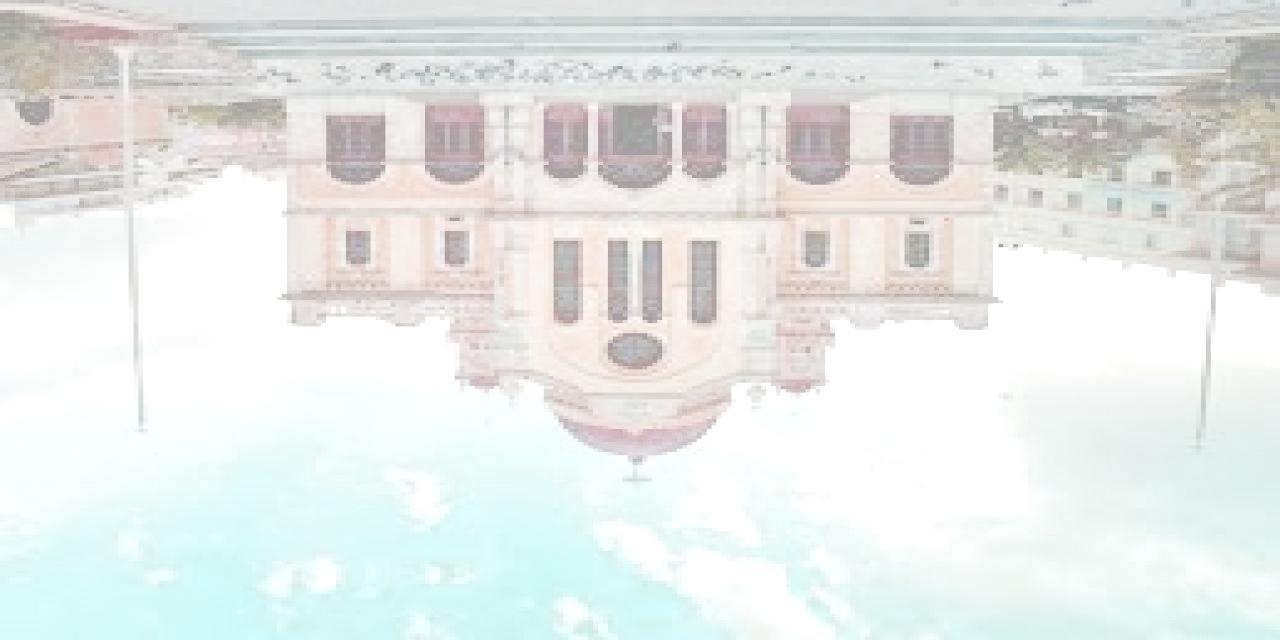Agios Minas: (282, 92, 1011, 475)
